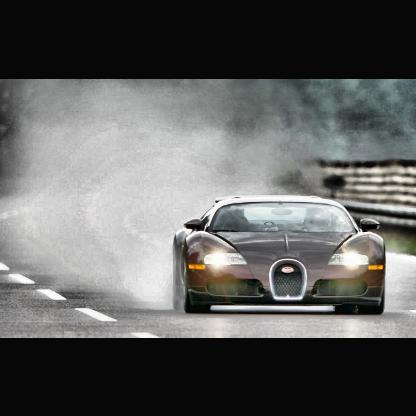Bugatti Veyron 16-4 Coupe 2009: (172, 193, 388, 318)
